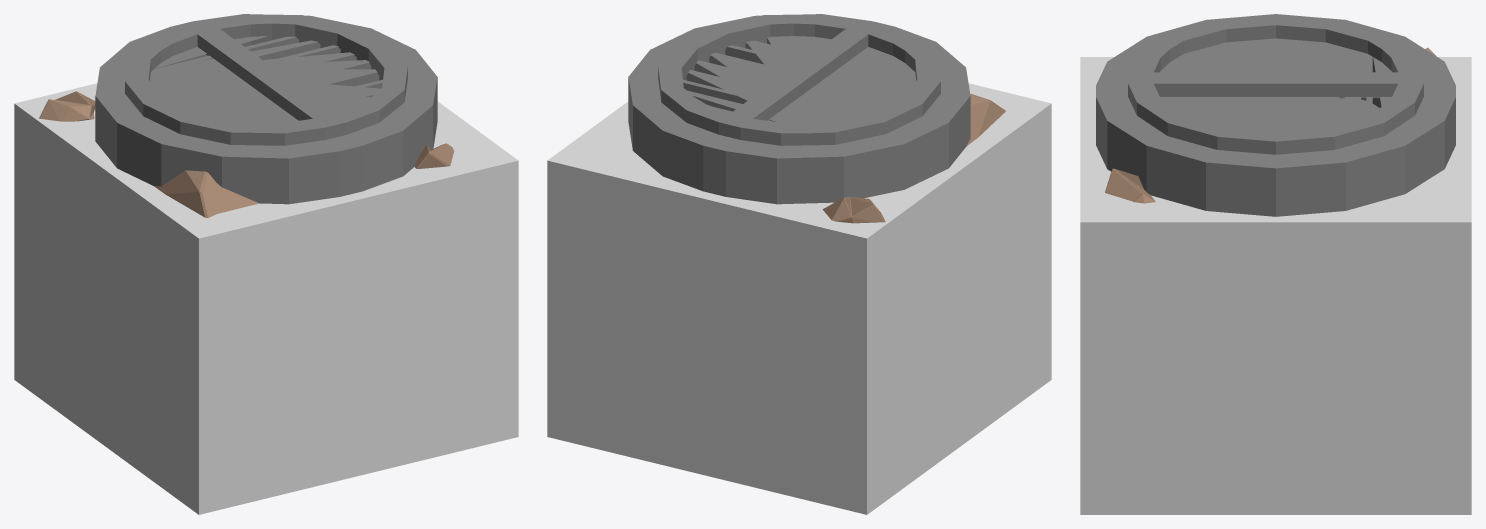
The model's file is Egout.fbx.
The picture shows the model from 3 angles, left to right: view 1: azimuth 30°, elevation 25°; view 2: azimuth 150°, elevation 25°; view 3: azimuth 270°, elevation 25°; orthographic projection. The views are drawn at different scales.
Parts seen in each view (by area): view 1: Egout; view 2: Egout; view 3: Egout.
Part boxes in pixels (x1,y1,x2,y2): Egout: (14,14,518,514); Egout: (547,14,1051,514); Egout: (1080,14,1471,514).
Size of the model in its own units: 100 by 100 by 100.
